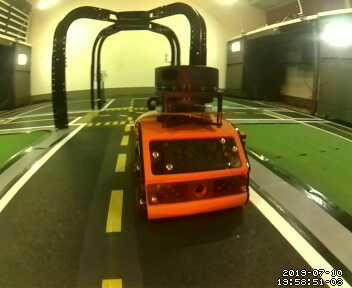pheeno: (130, 64, 252, 223)
